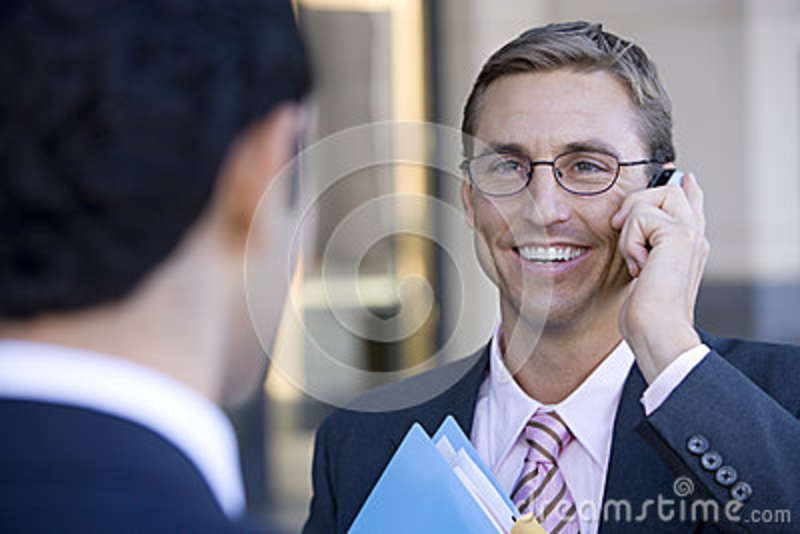talk: (462, 136, 713, 375)
